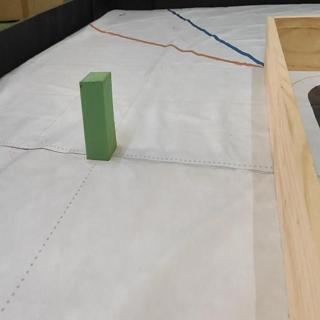greenbox: (80, 72, 115, 160)
